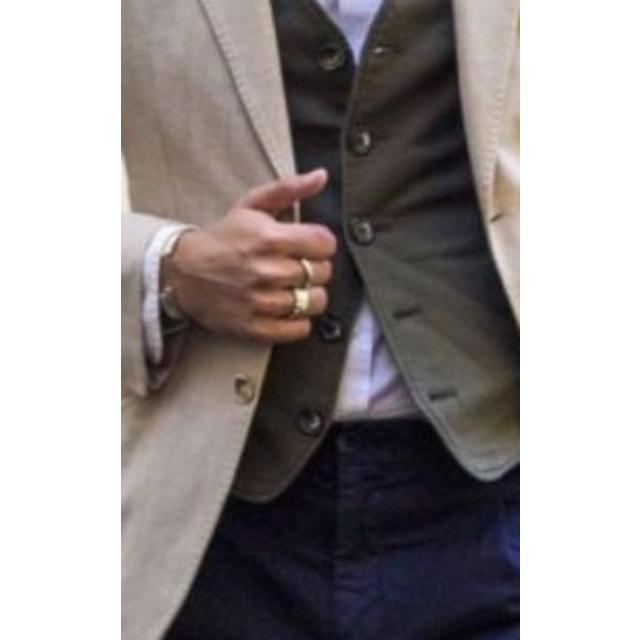cotton: (120, 1, 520, 446)
